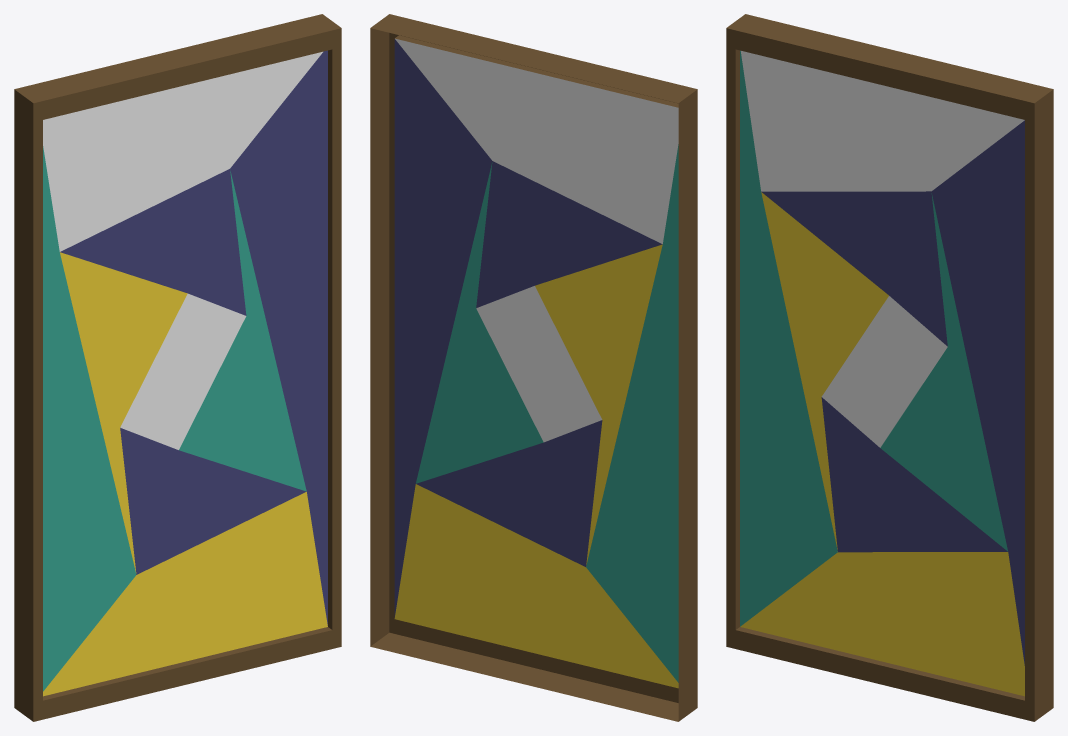
Rendered from picture1.fbx.
The picture shows the model from 3 angles, left to right: view 1: azimuth 30°, elevation 25°; view 2: azimuth 150°, elevation 25°; view 3: azimuth 330°, elevation 25°; orthographic projection.
Visible parts, largest first — view 1: picture1; view 2: picture1; view 3: picture1.
Part boxes in pixels (x1,y1,x2,y2): picture1: (14,14,341,721); picture1: (370,14,697,721); picture1: (726,14,1053,721).
Bounding box in the file's own units: 29.37 × 56.32 × 3.18.
